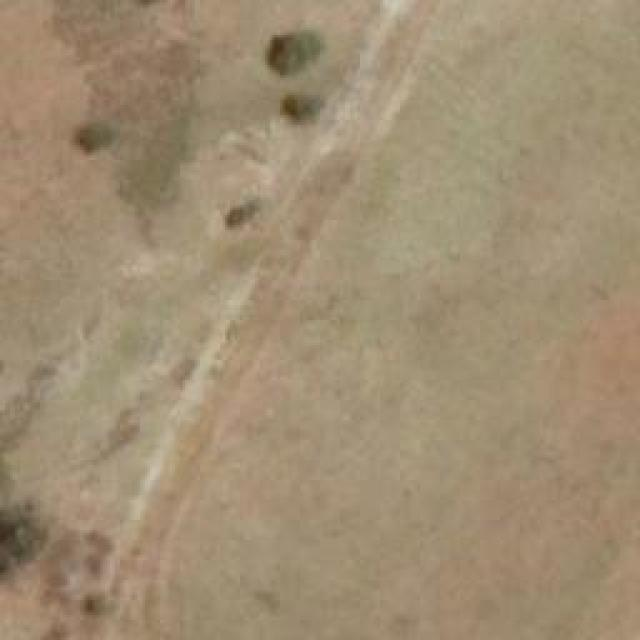Tree: (263, 35, 318, 80), (0, 507, 35, 575), (75, 115, 116, 152), (220, 203, 262, 232), (278, 95, 318, 120), (83, 587, 109, 621)
